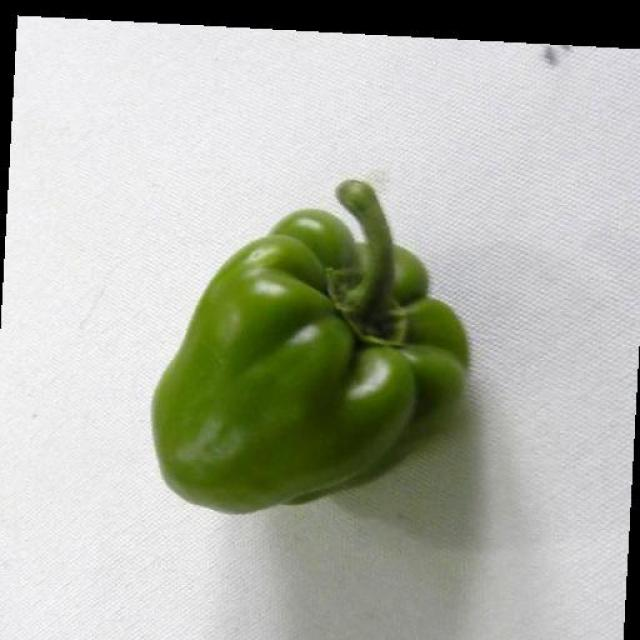Fresh_Capsicum: (140, 223, 440, 502)
